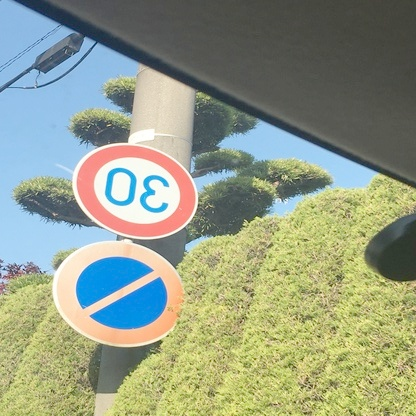Prohibition_sign: (48, 237, 194, 353)
Speed_sign: (70, 138, 207, 255)
